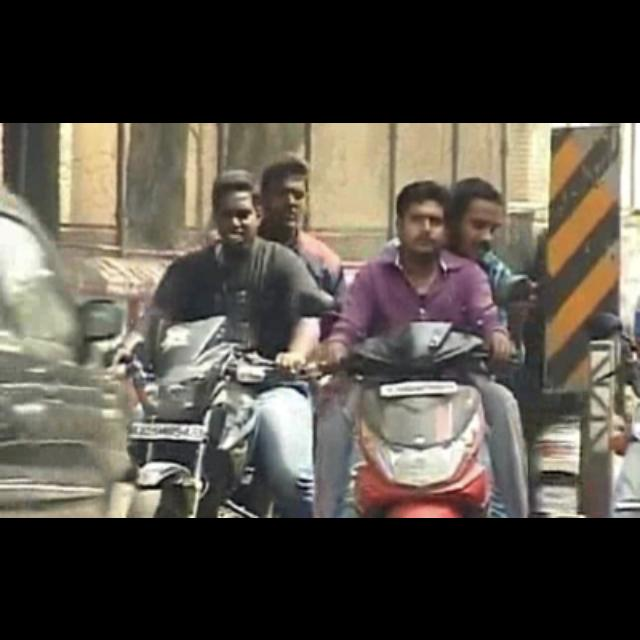Without Helmet: (388, 170, 456, 260), (201, 165, 267, 247)
